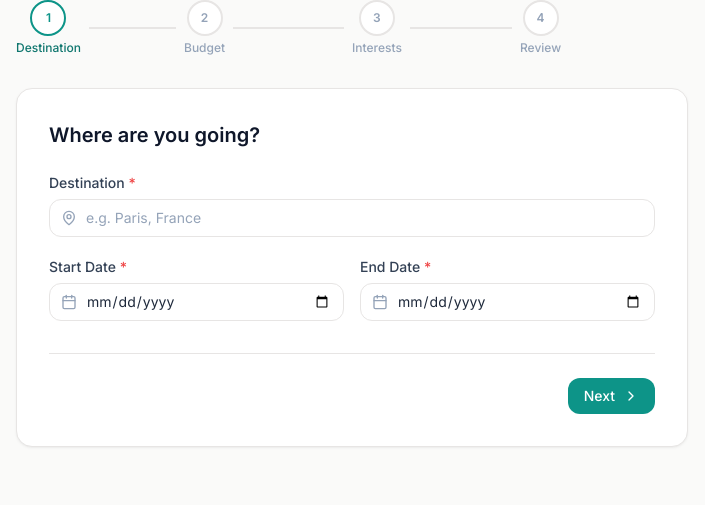
Test: SmartTripForm validation › shows error for empty destination
The width and height of the screenshot is (705, 505).
Click the button "Next": (611, 396) [568, 378, 655, 414]
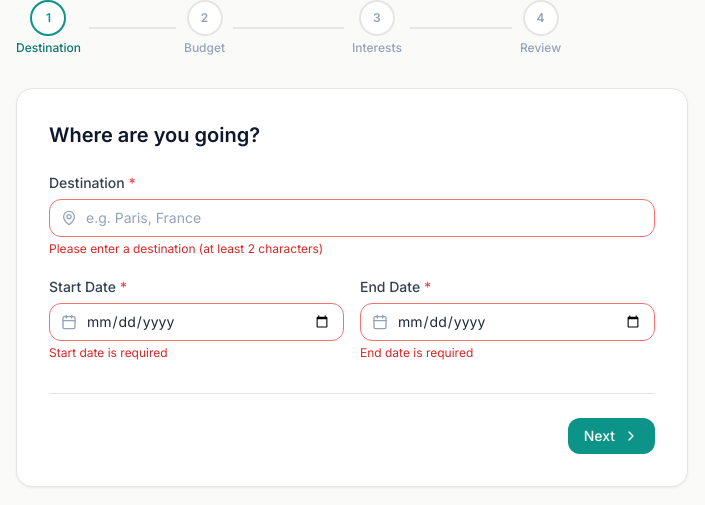
Result: the text "Please enter a destination (at least 2 characters)" is shown at [49, 241, 323, 256]
